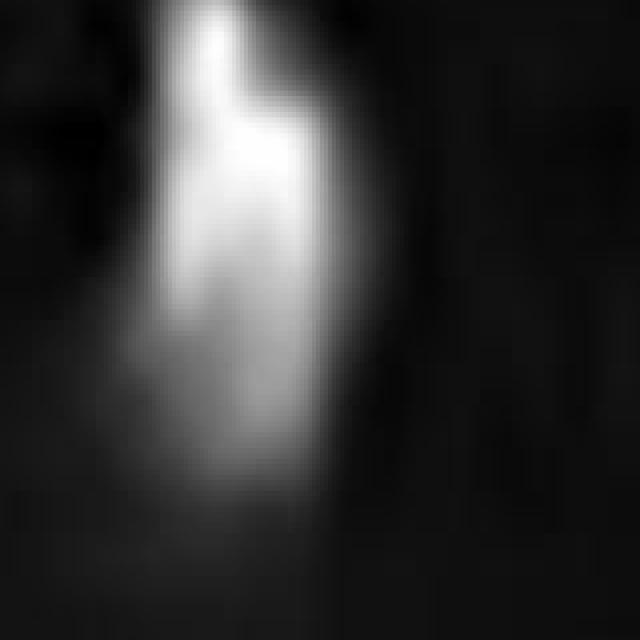person: (125, 1, 345, 486)
